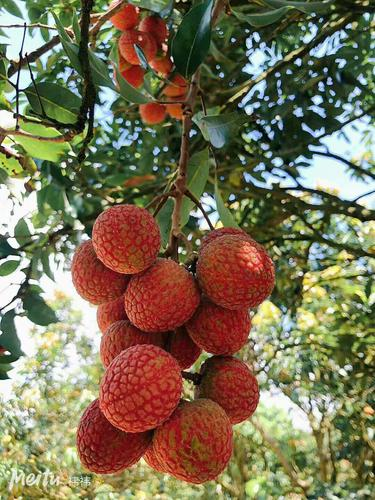litchi: (74, 208, 277, 482), (108, 1, 186, 121)
stem: (168, 123, 191, 201)
